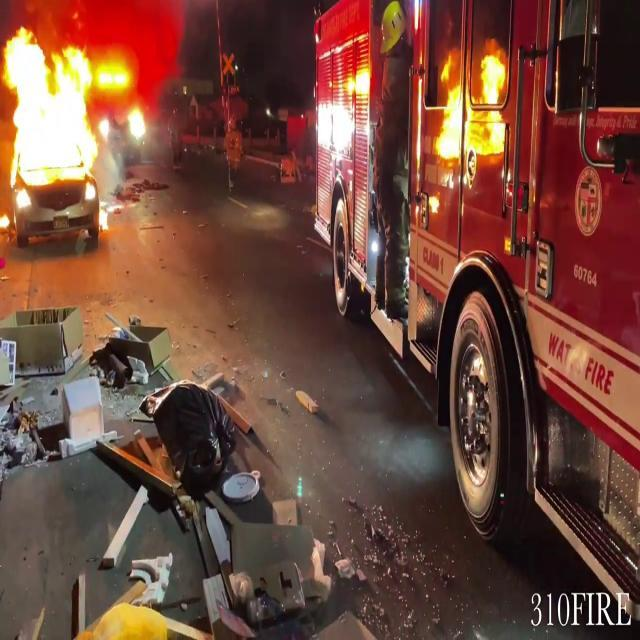Fire: (0, 22, 134, 234), (431, 44, 511, 178), (465, 346, 490, 424)
